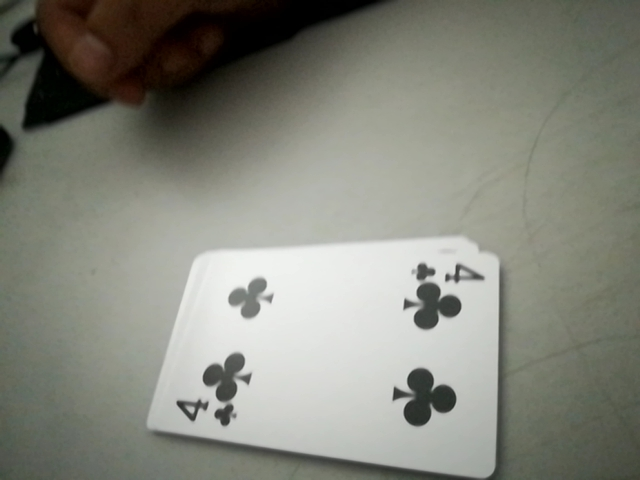mh 4: (163, 389, 241, 436), (411, 254, 492, 291)
